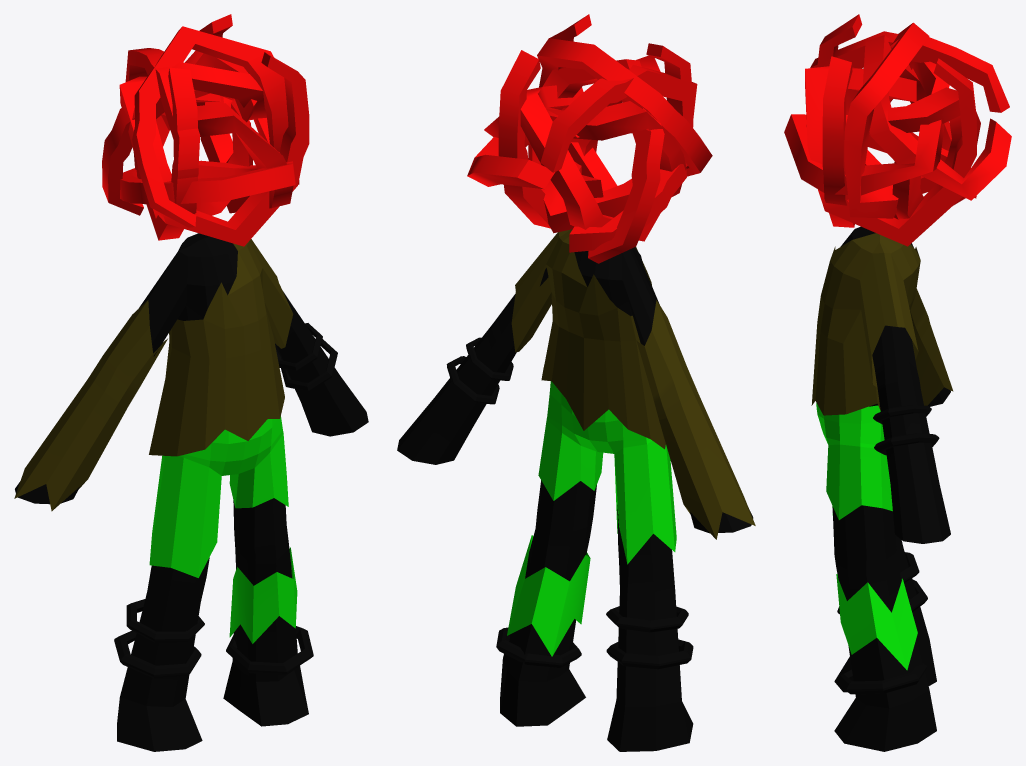
The model's file is ANXIIDTIY.fbx.
3 views of the same model, side by side, from view 1: azimuth 30°, elevation 25°; view 2: azimuth 150°, elevation 25°; view 3: azimuth 270°, elevation 25° (orthographic).
Parts seen in each view (by area): view 1: pCube8; view 2: pCube8; view 3: pCube8.
Boxes of the visible parts, x1,y1,x2,y2 form: pCube8: (14,14,368,751); pCube8: (397,14,755,751); pCube8: (784,14,1011,751).
Bounding box in the file's own units: 217 × 402 × 123.
